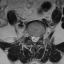CCS_normal: (33, 32, 36, 45)
LFS_normal: (39, 32, 42, 40)
LLS_normal: (36, 33, 39, 43)
RFS_normal: (29, 32, 31, 41)
RLS_normal: (31, 33, 33, 44)
